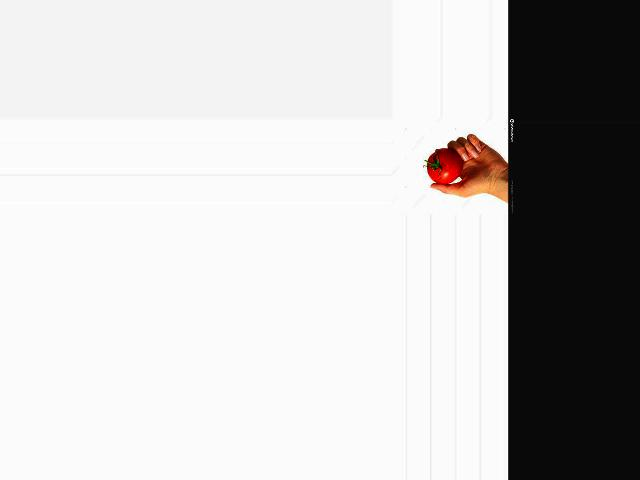tomato: (426, 149, 462, 184)
